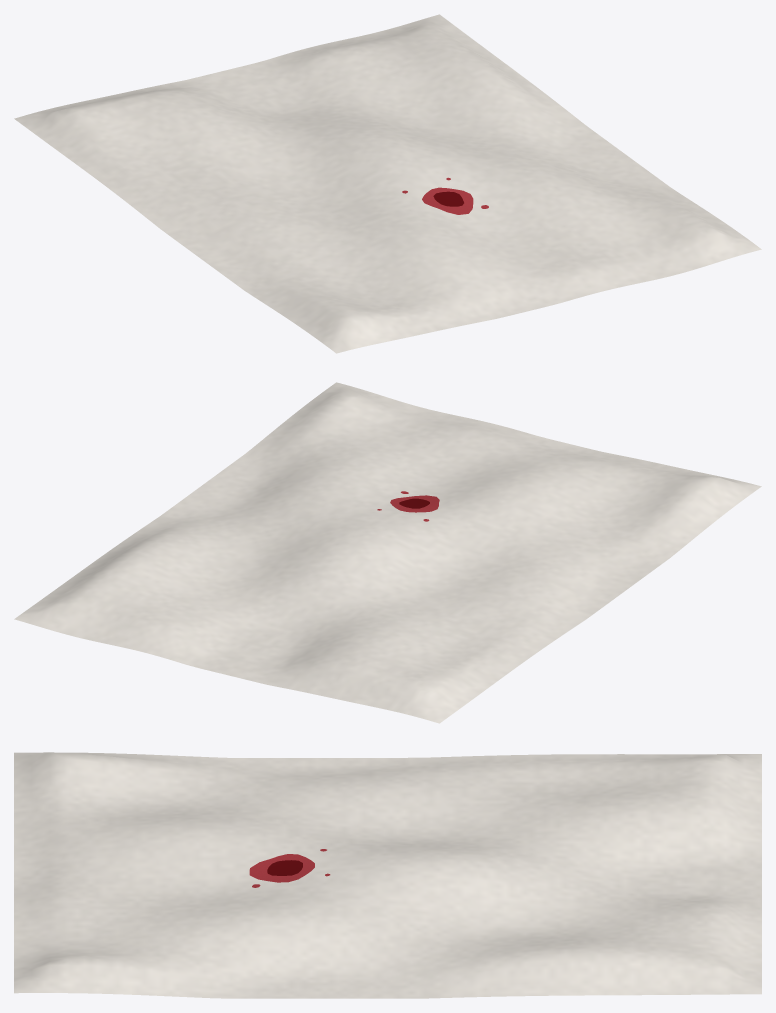
Rendered from Furn_Trace_FirstNightSheet.fbx.
3 views of the same model, one above another, from view 1: azimuth 30°, elevation 25°; view 2: azimuth 150°, elevation 25°; view 3: azimuth 270°, elevation 25° (orthographic). The views are drawn at different scales.
Visible parts, largest first — view 1: Trace_FirstNightSheet; view 2: Trace_FirstNightSheet; view 3: Trace_FirstNightSheet.
Boxes of the visible parts, x1,y1,x2,y2 form: Trace_FirstNightSheet: (14, 14, 761, 353); Trace_FirstNightSheet: (14, 382, 761, 723); Trace_FirstNightSheet: (14, 752, 761, 998).
Size of the model in its own units: 1.6 by 0.0808 by 2.1.
Materials: 3 (3 with a texture image).
